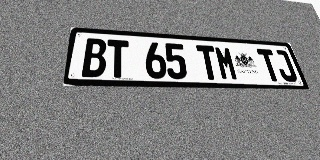5: (164, 43, 188, 79)
6: (144, 42, 167, 79)
B: (81, 38, 107, 77)
J: (272, 50, 299, 82)
M: (214, 46, 239, 80)
T: (106, 39, 129, 78), (256, 49, 283, 82), (196, 45, 221, 80)
